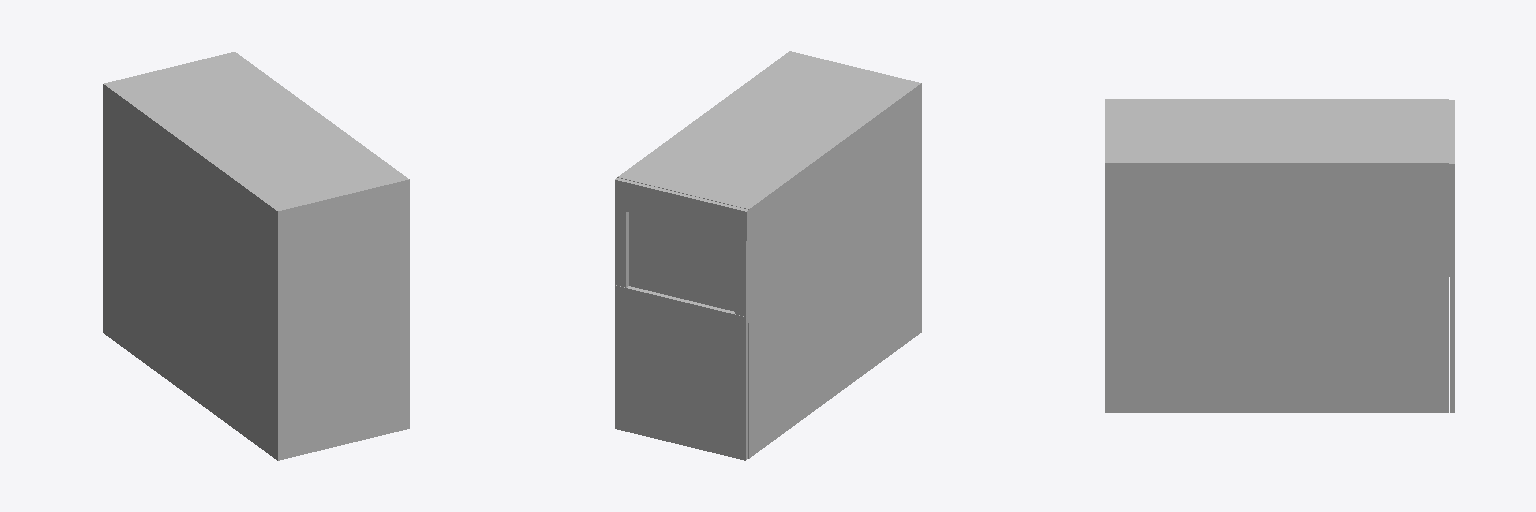
The model's file is Project Name.obj.
3 renders of one model, left to right at view 1: azimuth 30°, elevation 25°; view 2: azimuth 150°, elevation 25°; view 3: azimuth 270°, elevation 25°, orthographic.
Parts seen in each view (by area): view 1: 004_Box; view 2: 004_Box, 003_Box_1, 002_Box_2, 000_Box_4, 001_Box_3; view 3: 004_Box, 003_Box_1, 002_Box_2.
Boxes of the visible parts, box(x1,y1,x2,y2) form: 004_Box: box(105, 53, 409, 460); 004_Box: box(617, 51, 921, 458); 003_Box_1: box(615, 285, 747, 460); 002_Box_2: box(615, 178, 748, 240); 000_Box_4: box(735, 233, 748, 323); 001_Box_3: box(615, 204, 628, 287); 004_Box: box(1105, 99, 1448, 412); 003_Box_1: box(1450, 269, 1454, 412); 002_Box_2: box(1449, 100, 1454, 192).
Bounding box in the file's own units: 56.16 × 102 × 129.